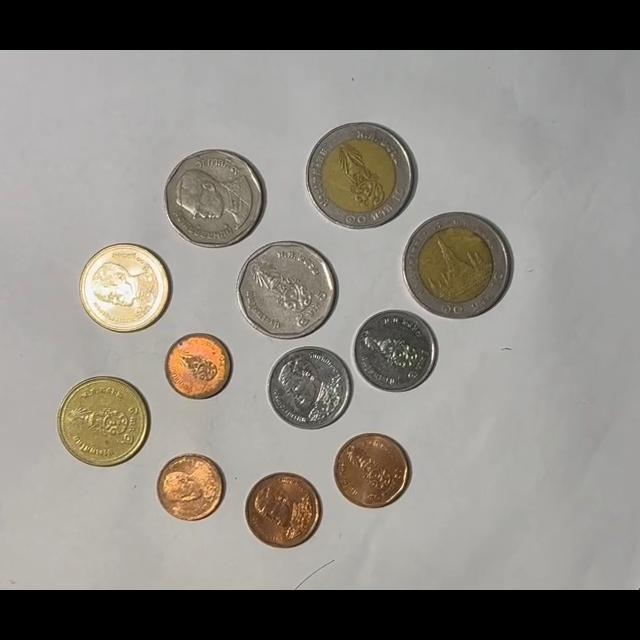1-baht: (266, 346, 351, 430), (353, 309, 437, 393)
10-baht: (305, 123, 415, 231), (402, 211, 511, 319)
2-baht: (57, 376, 149, 467), (79, 243, 170, 334)
25-satang: (156, 454, 226, 523), (165, 332, 233, 399)
5-baht: (164, 149, 265, 249), (237, 240, 337, 340)
50-satang: (244, 472, 322, 549), (333, 433, 410, 509)
